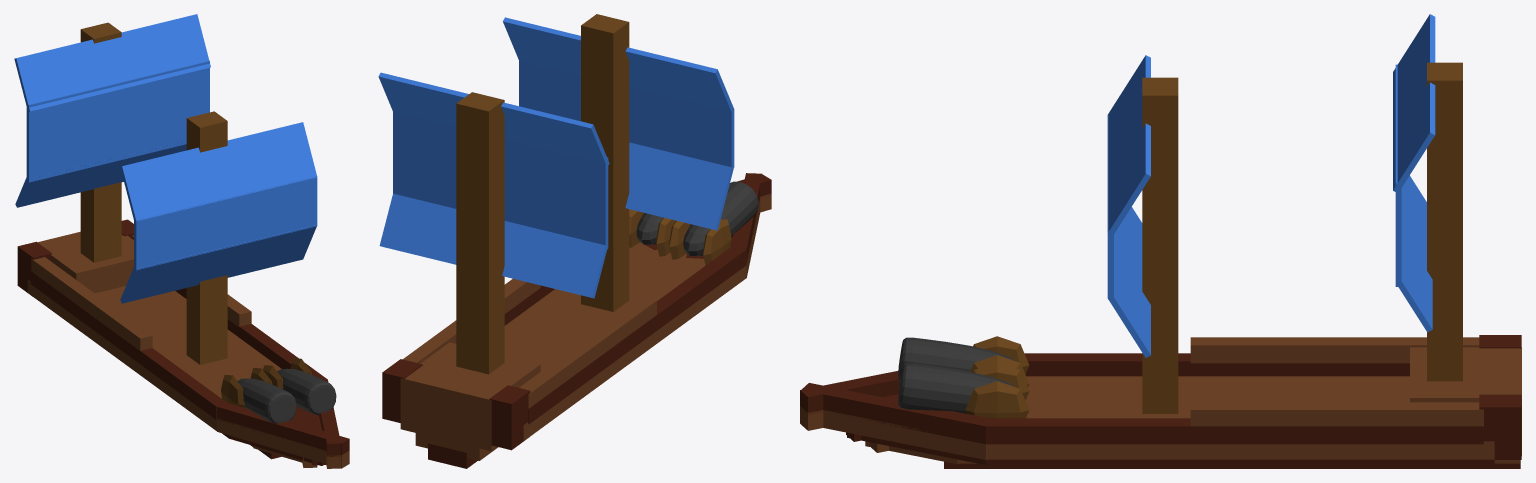
File: Level2Boat.fbx
The picture shows the model from 3 angles, left to right: view 1: azimuth 30°, elevation 25°; view 2: azimuth 150°, elevation 25°; view 3: azimuth 270°, elevation 25°; orthographic projection. The views are drawn at different scales.
Visible parts, largest first — view 1: Cube.003, Cube.025, Cube.006, Cube.026, Cube.005, Cube.024, Cube.027, Cube.002, Cube.018, Cube.019, Cube.007, Cube.023 (+11 smaller); view 2: Cube.003, Cube.002, Cube.005, Cube.027, Cube.007, Cube.026, Cube.019, Cube.025, Cube.024, Cube.006, Cube.018, Cube.023 (+12 smaller); view 3: Cube.005, Cube.027, Cube.015, Cube.002, Cube.022, Cube.023, Cube.018, Cube.025, Cube.006, Cube.019, Cube.017, Cube.024 (+13 smaller).
Part boxes in pixels (bbox=[...]): Cube.003: bbox=[26, 60, 209, 182]; Cube.025: bbox=[120, 122, 317, 221]; Cube.006: bbox=[14, 14, 210, 111]; Cube.026: bbox=[134, 176, 317, 270]; Cube.005: bbox=[27, 279, 281, 430]; Cube.024: bbox=[120, 225, 317, 303]; Cube.027: bbox=[186, 111, 227, 364]; Cube.002: bbox=[80, 22, 121, 262]; Cube.018: bbox=[31, 271, 225, 419]; Cube.019: bbox=[37, 231, 133, 293]; Cube.007: bbox=[15, 140, 186, 207]; Cube.023: bbox=[31, 257, 152, 350]; Cube.003: bbox=[393, 112, 608, 248]; Cube.002: bbox=[456, 92, 504, 374]; Cube.005: bbox=[504, 242, 746, 440]; Cube.027: bbox=[581, 14, 629, 311]; Cube.007: bbox=[379, 193, 608, 298]; Cube.026: bbox=[519, 60, 734, 167]; Cube.019: bbox=[400, 342, 540, 451]; Cube.025: bbox=[503, 17, 733, 112]; Cube.024: bbox=[625, 142, 734, 230]; Cube.006: bbox=[378, 72, 609, 166]; Cube.018: bbox=[528, 247, 746, 424]; Cube.023: bbox=[519, 297, 656, 409]; Cube.005: bbox=[986, 376, 1494, 459]; Cube.027: bbox=[1142, 77, 1178, 413]; Cube.015: bbox=[986, 418, 1483, 444]; Cube.002: bbox=[1427, 62, 1462, 381]; Cube.022: bbox=[1190, 402, 1483, 427]; Cube.023: bbox=[1190, 337, 1479, 363]; Cube.018: bbox=[1024, 353, 1409, 376]; Cube.025: bbox=[1107, 55, 1150, 235]; Cube.006: bbox=[1393, 14, 1435, 192]; Cube.019: bbox=[1410, 347, 1521, 455]; Cube.017: bbox=[801, 383, 987, 444]; Cube.024: bbox=[1107, 207, 1150, 357].
Size of the model in its own units: 1100 by 1672 by 2829.
